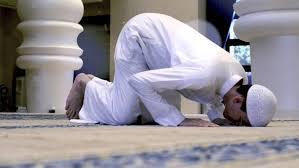sujud: (64, 12, 278, 127)
